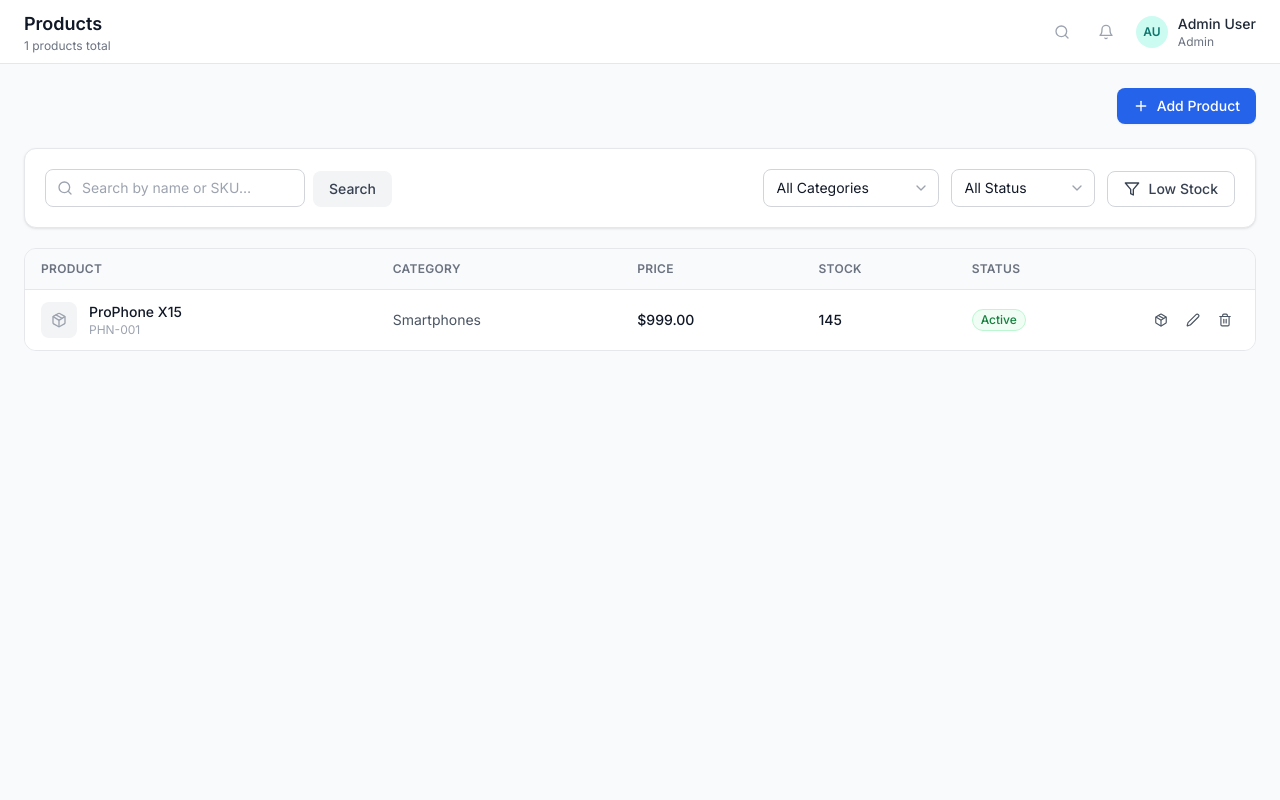
Products — Edit › submits the edit form and closes the modal
This screenshot has width=1280, height=800.
Check: the text "ProPhone X15" is shown, box [89, 302, 182, 322]
Step 1. Click the button titled "Edit" → (1193, 320), box [1179, 306, 1207, 334]
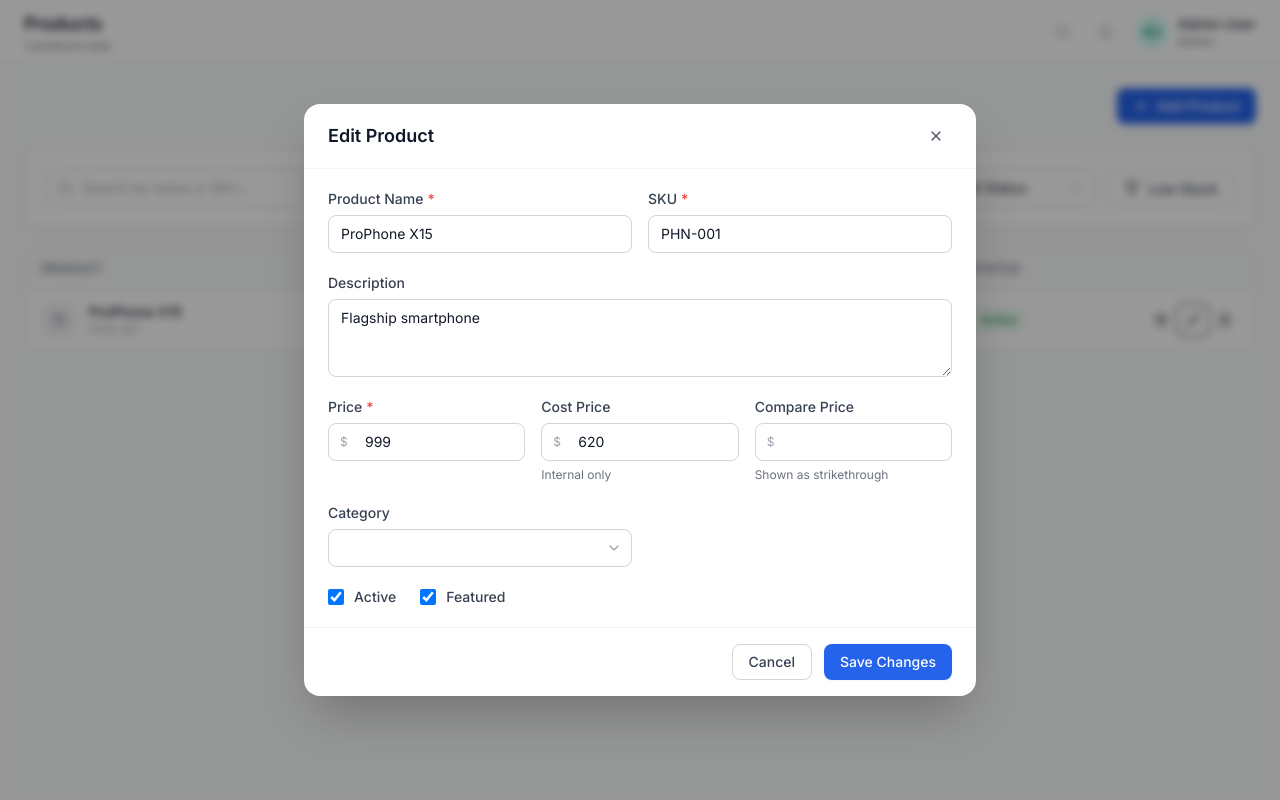
Step 2. Replace the text in the field showing "ProPhone X15" with "ProPhone X15 Updated" → (480, 234), box [328, 215, 632, 253]
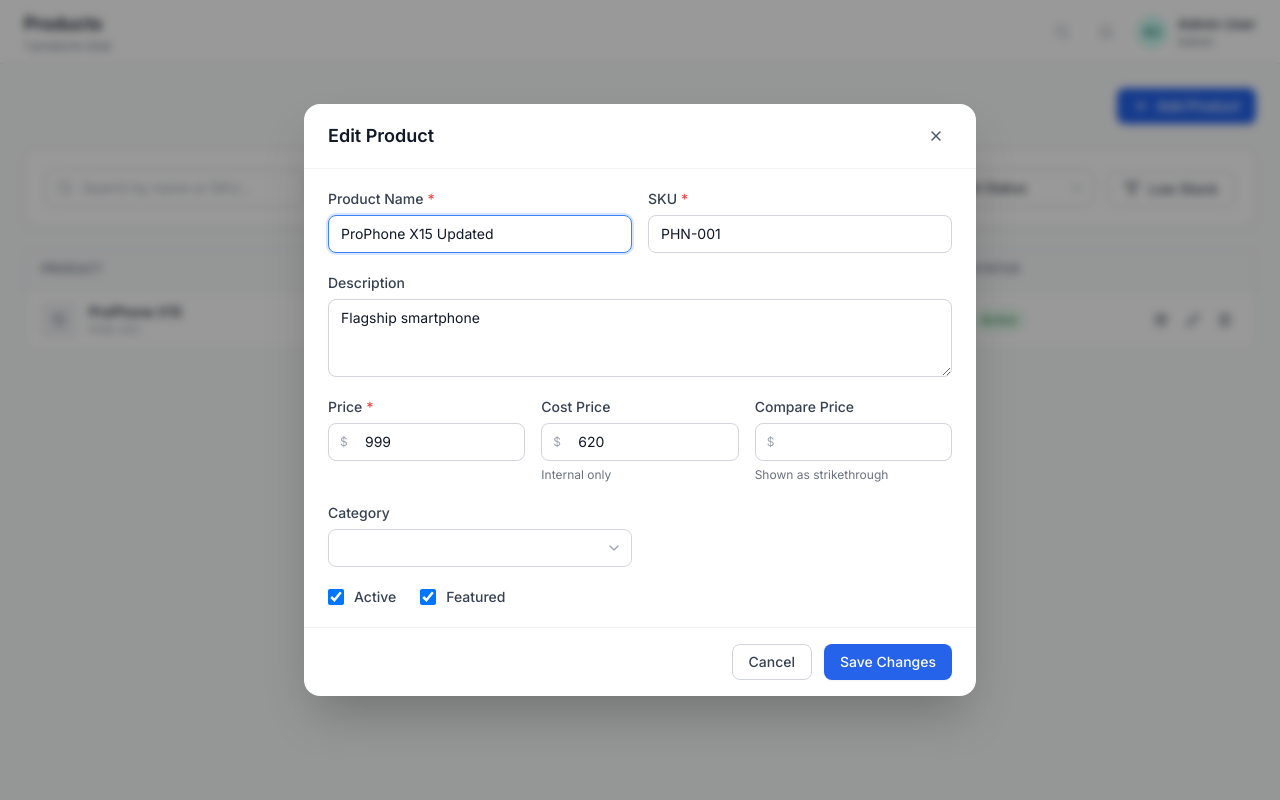
Step 3. Click the button "Save Changes" → (888, 662), box [824, 644, 952, 680]
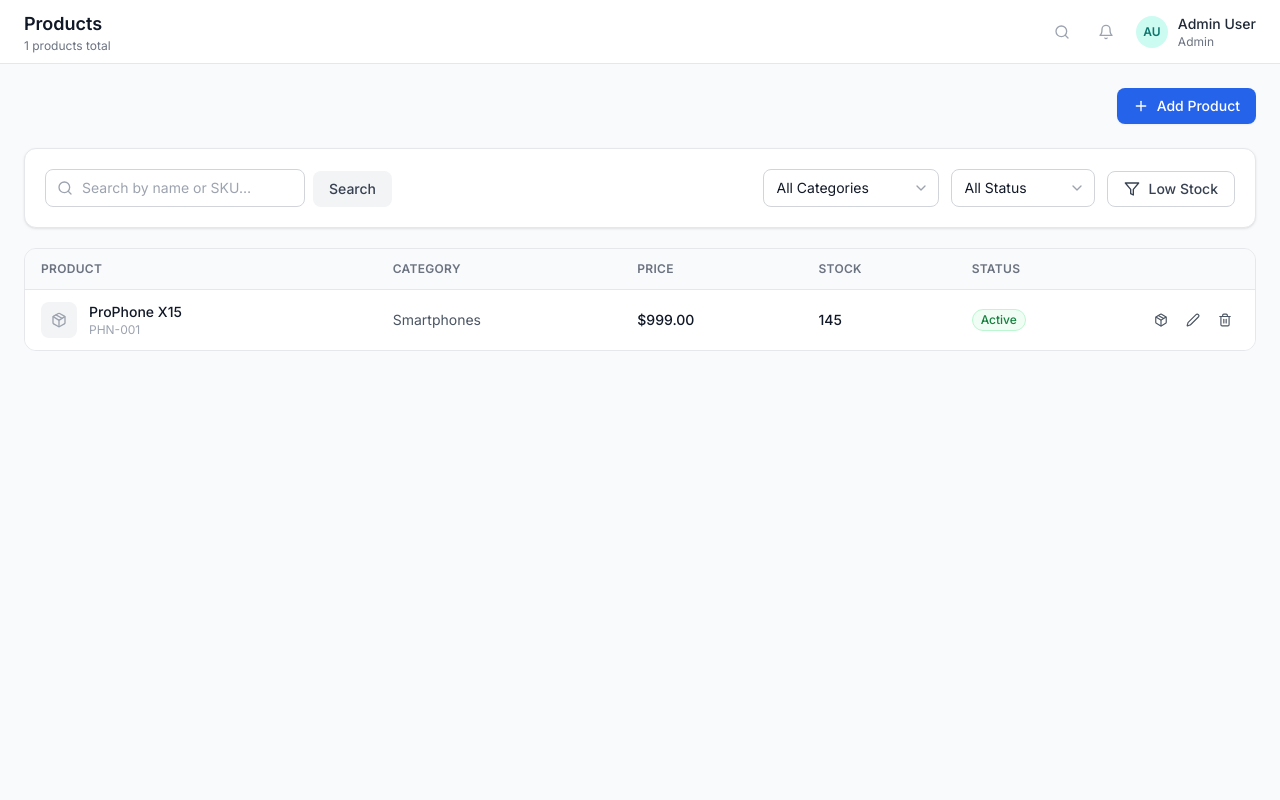
Check: the dialog is gone
